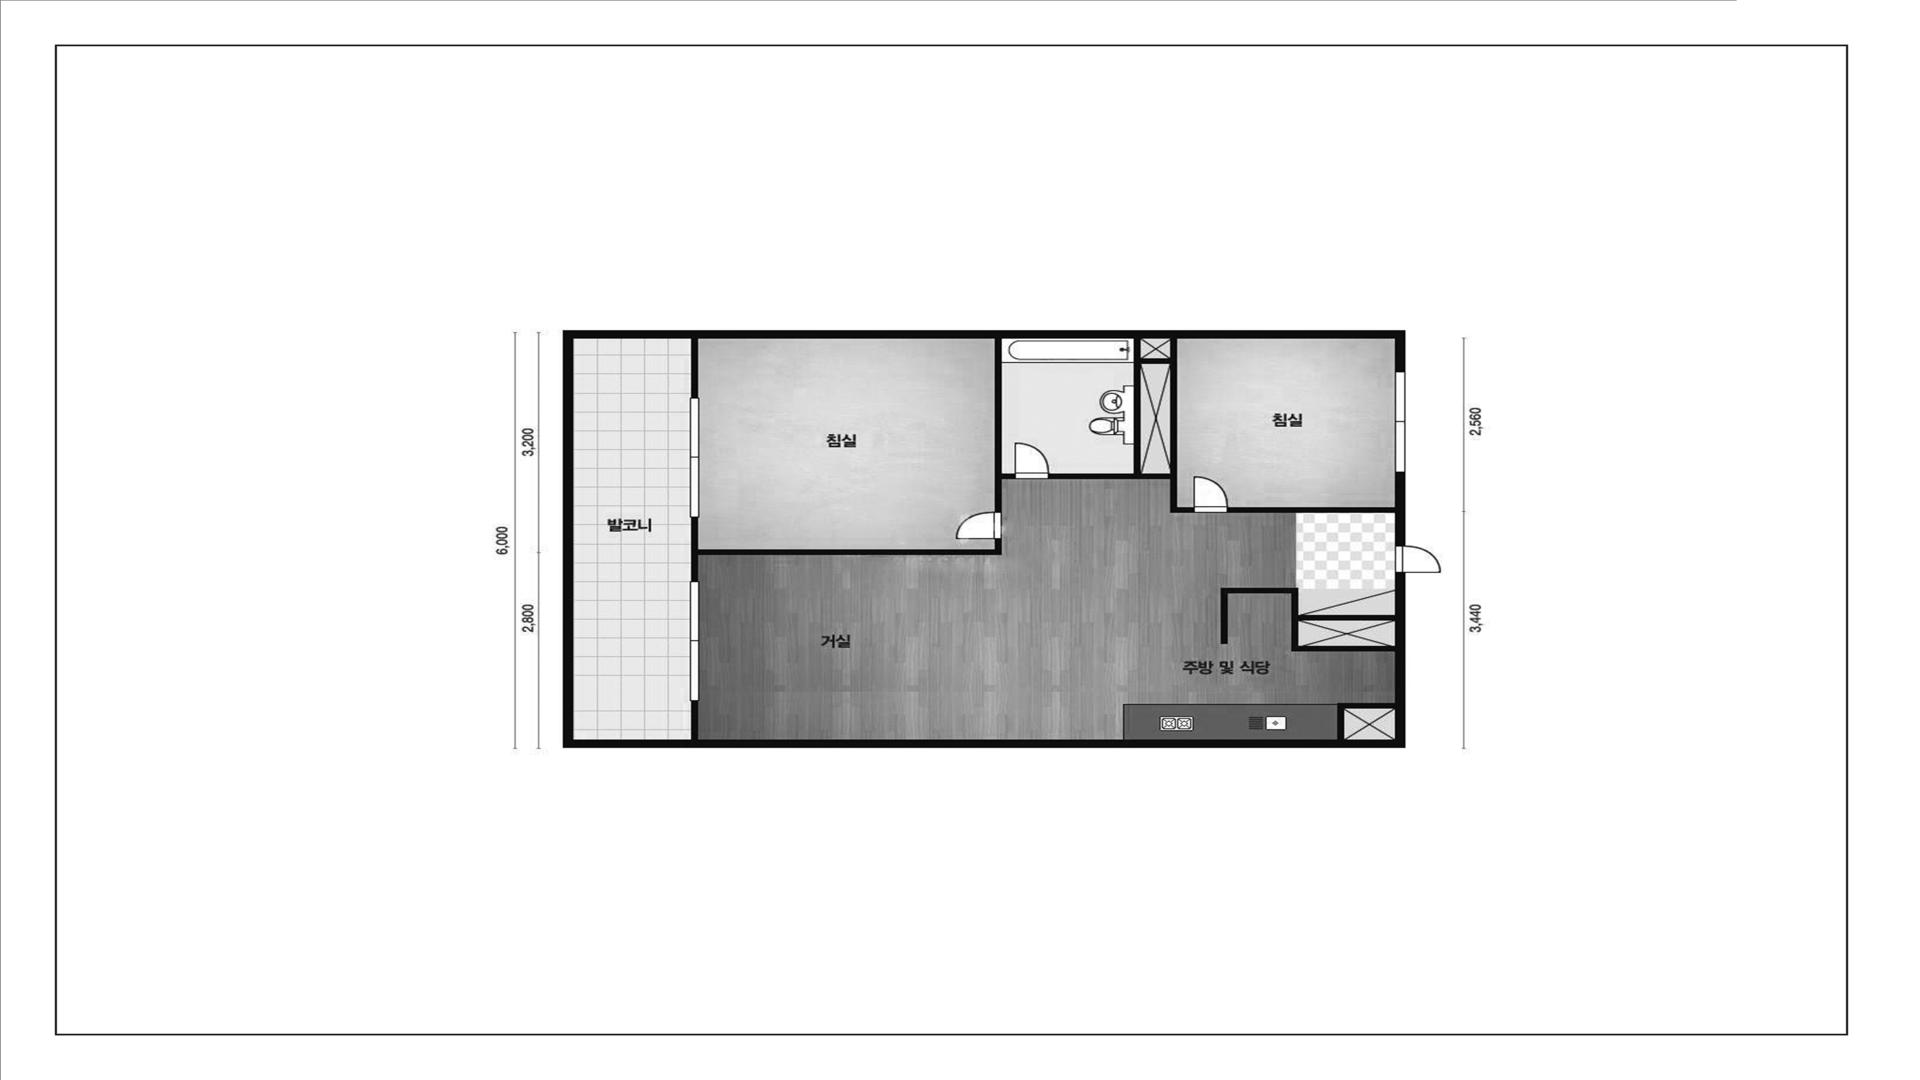door: (1014, 442, 1050, 479), (1395, 546, 1441, 574), (956, 512, 1002, 539), (1193, 476, 1228, 513)
wall: (563, 330, 1406, 748), (1050, 339, 1193, 513), (691, 518, 1002, 580), (1221, 588, 1395, 651), (994, 339, 1014, 512), (1337, 703, 1395, 740), (1228, 506, 1395, 513), (1395, 472, 1406, 545), (691, 339, 698, 397), (691, 702, 698, 740), (1141, 359, 1170, 364)
window: (690, 580, 700, 702), (690, 397, 699, 518), (1395, 372, 1406, 472)
